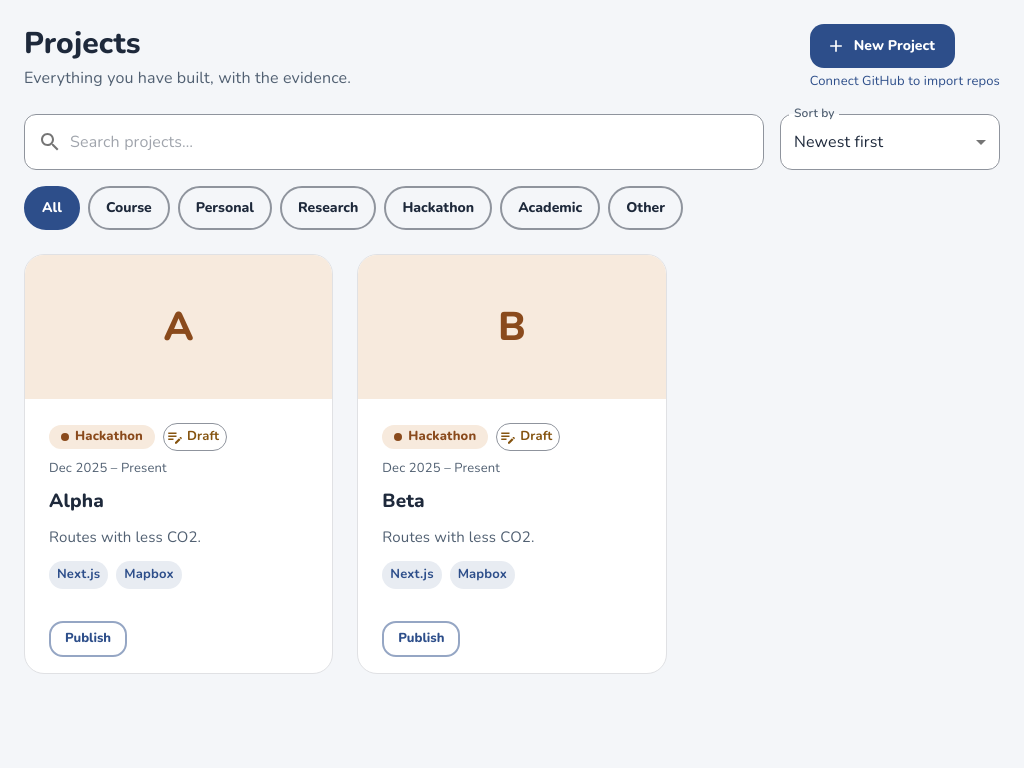
Test case: /projects quick publish › a published draft stops being a draft in the feed (the feed keeps its own list)
Expected: the text "Draft" is shown 2 times, [187, 427, 219, 445]; [520, 427, 552, 445]
Publish the first card only.
Click the button "Publish" below "Alpha" at (88, 639), box [49, 621, 127, 657]
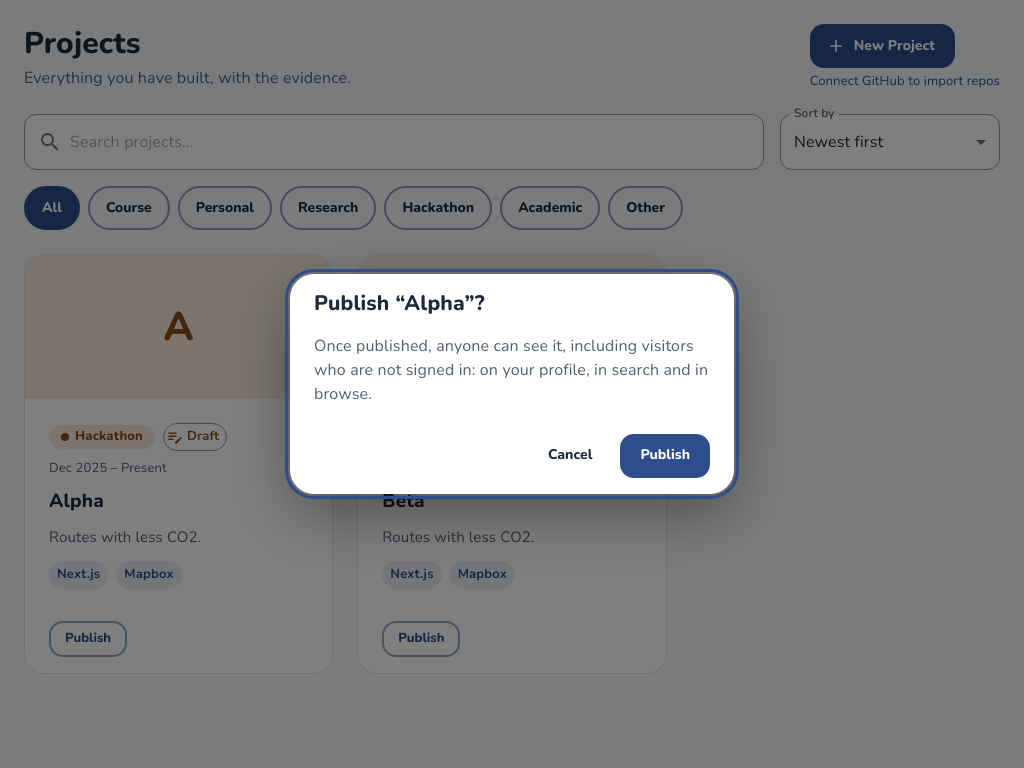
Click the button "Publish" at (665, 456), box [620, 434, 710, 478]
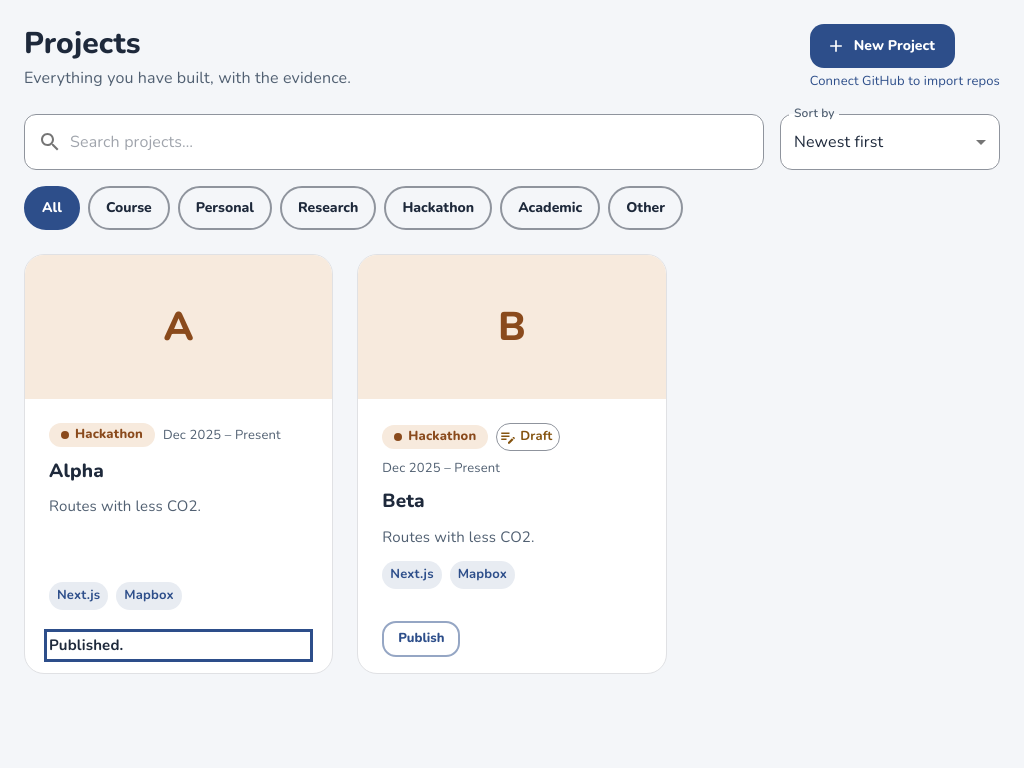
Now the text "Draft" is shown once, box [520, 427, 552, 445]
Now the number of buttons "Publish" is 1, box [382, 621, 460, 657]
